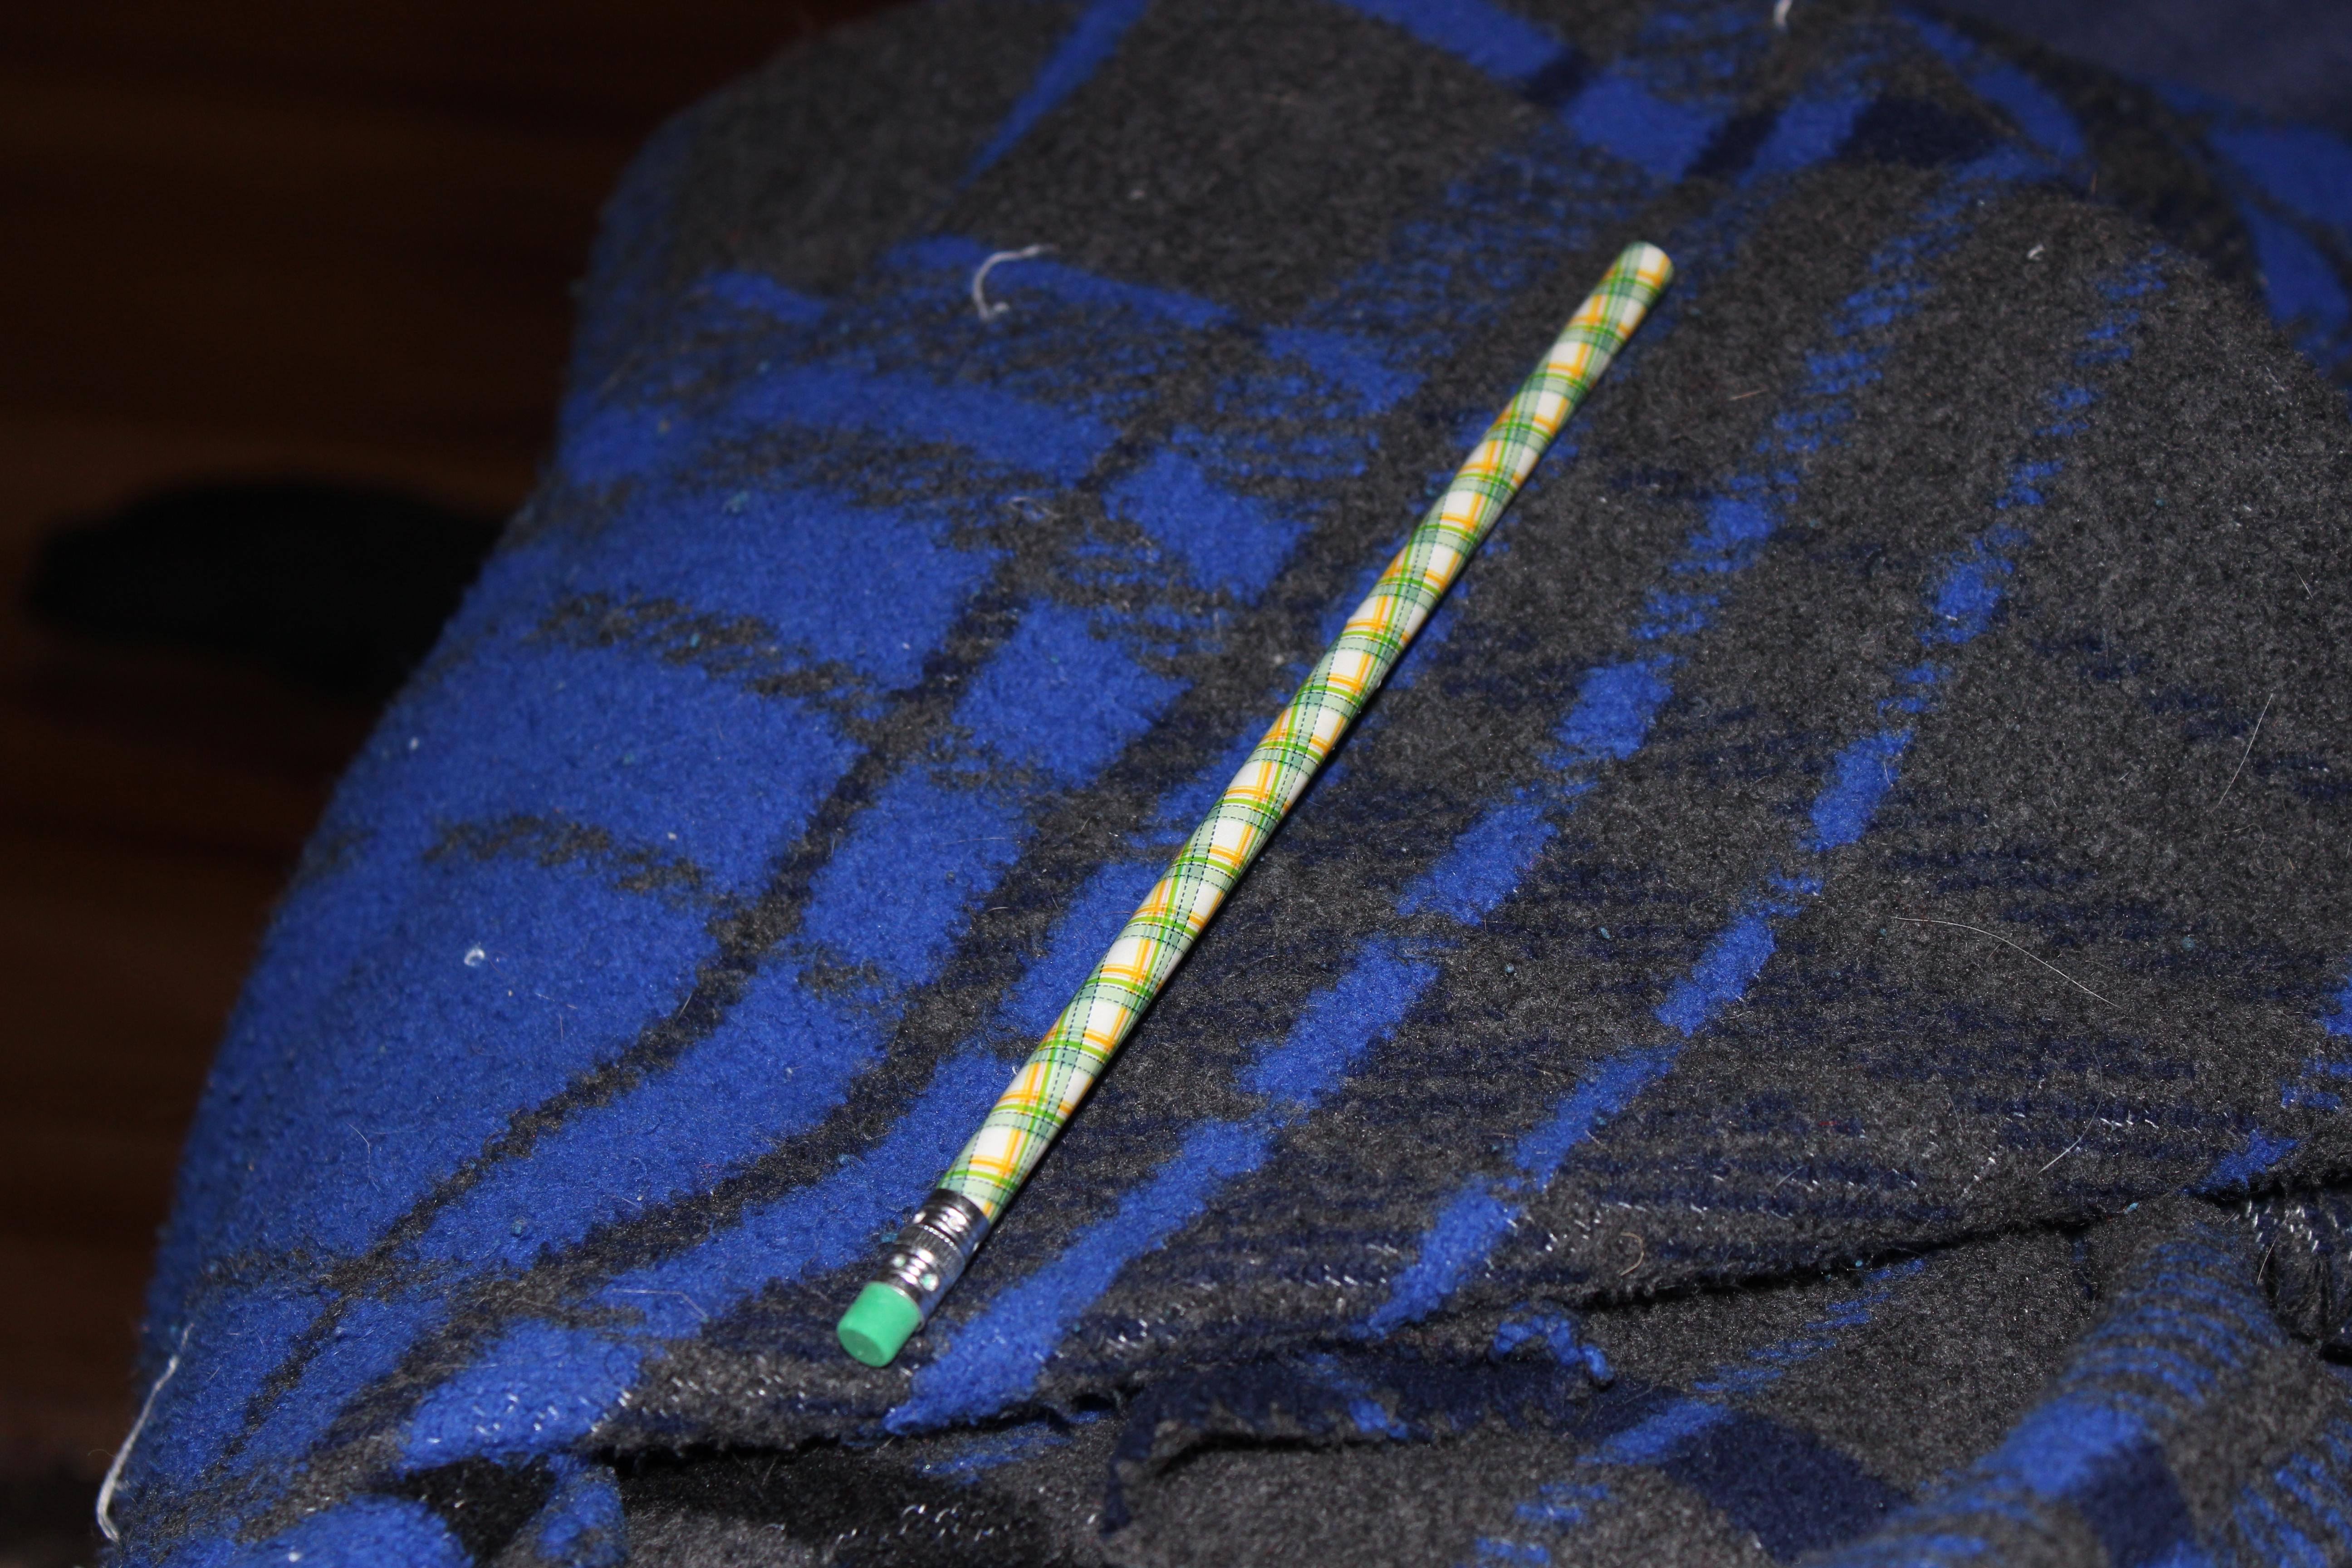plaidPencil: (819, 203, 1694, 1388)
